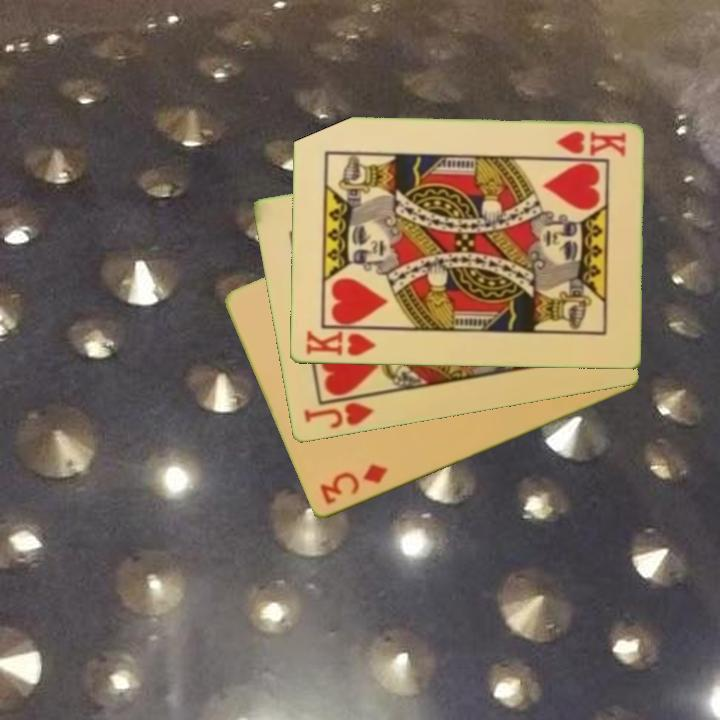3d: (316, 461, 390, 508)
Jh: (300, 391, 381, 432)
Kh: (302, 325, 384, 359), (552, 128, 628, 160)
